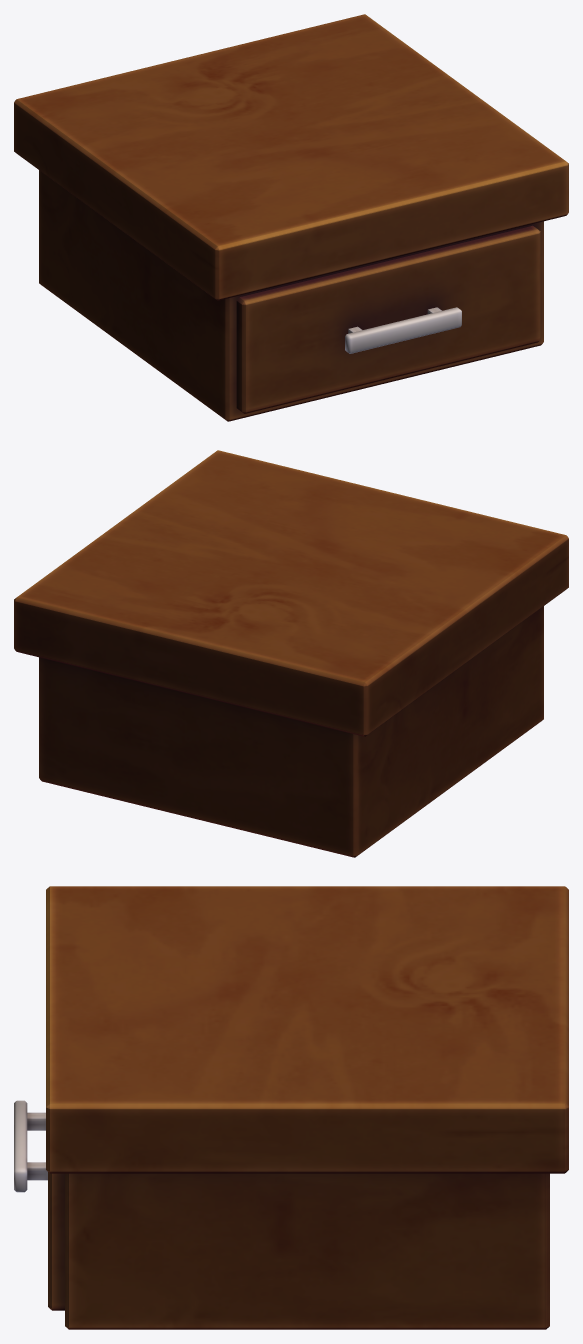
The picture shows the model from 3 angles, top to bottom: view 1: azimuth 30°, elevation 25°; view 2: azimuth 150°, elevation 25°; view 3: azimuth 270°, elevation 25°; orthographic projection. The views are drawn at different scales.
Visible parts, largest first — view 1: cabinet; view 2: cabinet; view 3: cabinet.
Part boxes in pixels (x1,y1,x2,y2): cabinet: (14,14,568,421); cabinet: (14,450,568,857); cabinet: (14,886,568,1329).
Size of the model in its own units: 2 by 1 by 2.12.
Materials: 1 (1 with a texture image).
